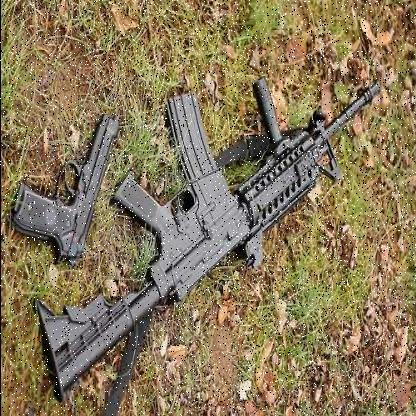rifle: (36, 71, 398, 409)
